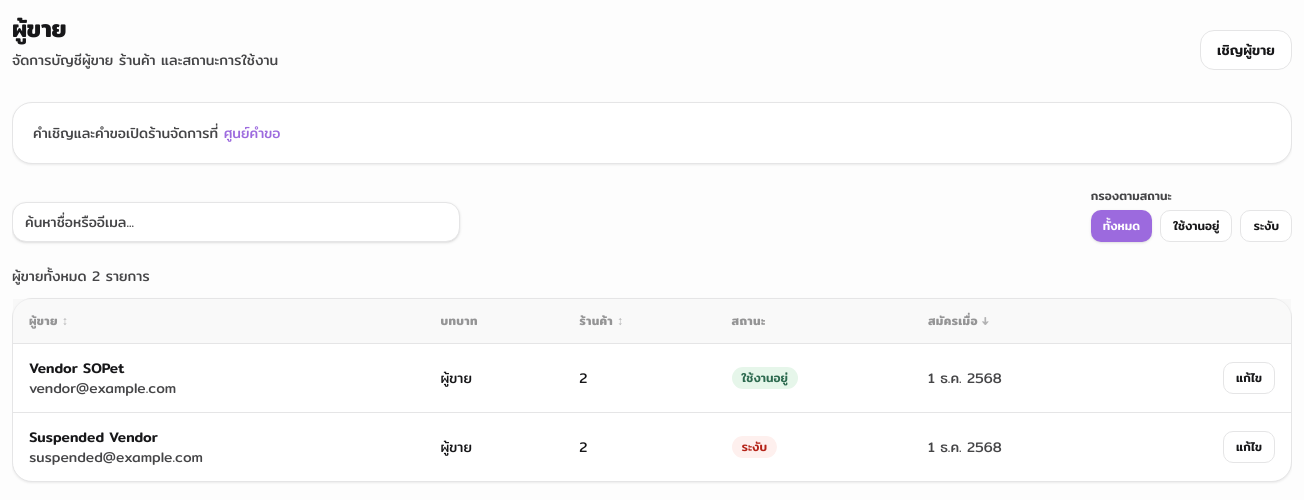
it: AdminVendorsPage › requests the status filter from the server and writes it to the URL
Expected: the text "ผู้ขายทั้งหมด 2 รายการ" is shown, [12,265,150,287]
Click the button "ระงับ" at (1266, 226), box [1240,210,1292,242]
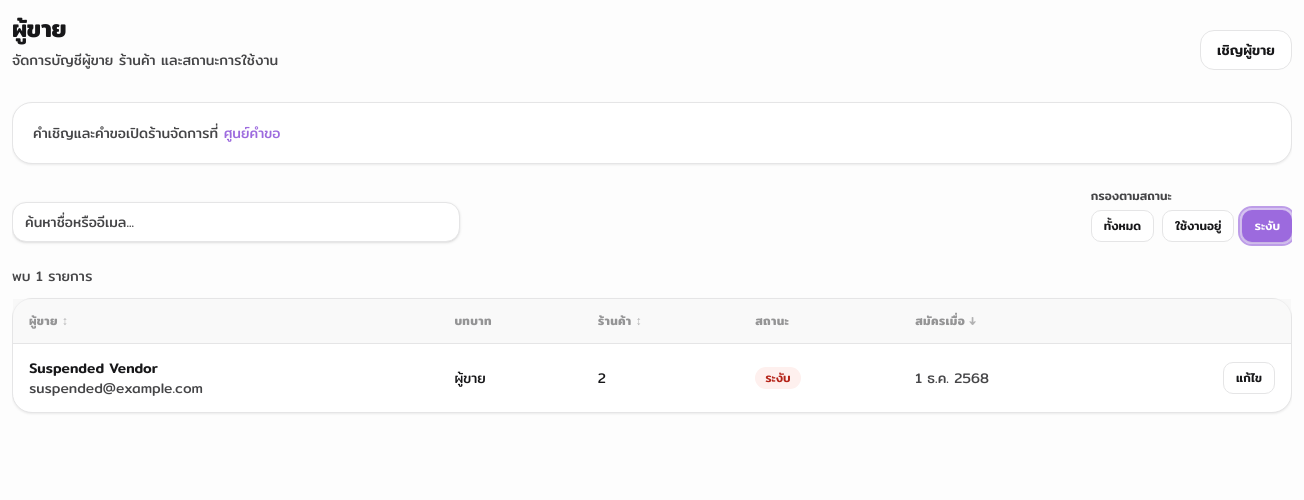
Now the text "พบ 1 รายการ" is shown, box [12,265,92,287]
Now the text "Vendor SOPet" is gone
